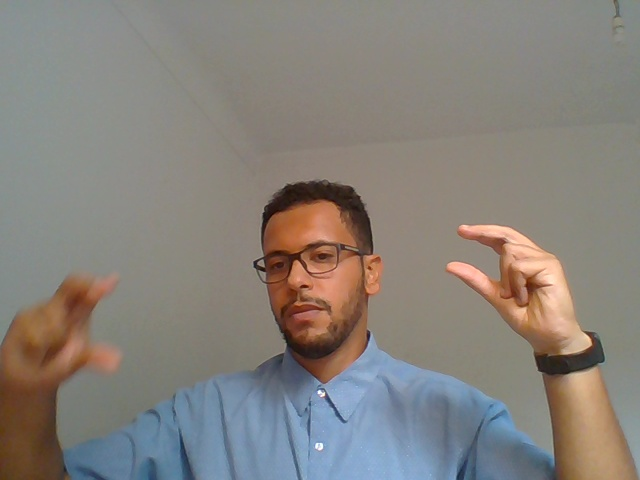no: (426, 198, 604, 371), (2, 247, 147, 407)
